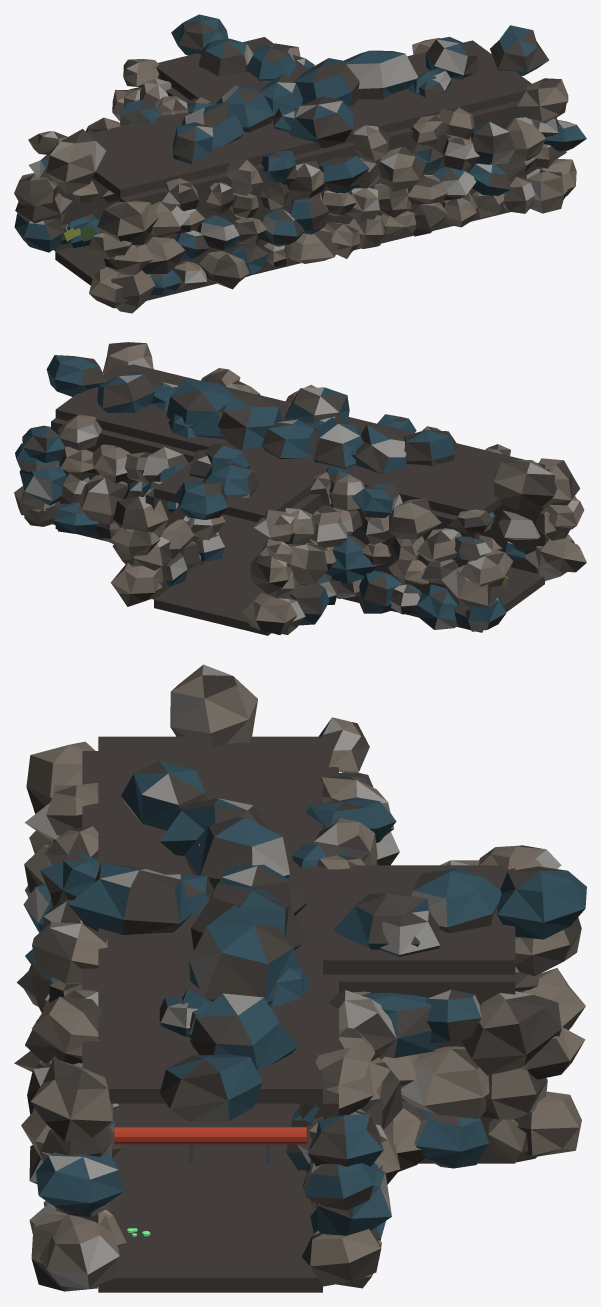
Rendered from Cave_Flooded_Junction.fbx.
The picture shows the model from 3 angles, top to bottom: view 1: azimuth 30°, elevation 25°; view 2: azimuth 150°, elevation 25°; view 3: azimuth 270°, elevation 25°; orthographic projection. The views are drawn at different scales.
Parts seen in each view (by area): view 1: Decor, Ceiling2, Wall3, Ceiling1, Floor2, Wall1; view 2: Decor, Ceiling2, Floor1, Ceiling1, Floor2, Wall2, Wall3, Wall1, Wall4, Wall5; view 3: Decor, Ceiling2, Floor2, Ceiling1, Wall4, Wall3, Wall2.
Part boxes in pixels (<box>): Decor: <box>14,14,586,313</box>; Ceiling2: <box>56,40,531,197</box>; Wall3: <box>120,100,540,296</box>; Ceiling1: <box>156,37,308,103</box>; Floor2: <box>55,209,509,300</box>; Wall1: <box>53,178,120,251</box>; Decor: <box>14,342,586,634</box>; Ceiling2: <box>55,363,544,516</box>; Floor1: <box>154,559,271,635</box>; Ceiling1: <box>154,448,319,522</box>; Floor2: <box>55,514,544,629</box>; Wall2: <box>51,418,195,535</box>; Wall3: <box>479,468,549,573</box>; Wall1: <box>329,503,479,613</box>; Wall4: <box>145,489,204,599</box>; Wall5: <box>268,494,323,546</box>; Decor: <box>14,664,586,1291</box>; Ceiling2: <box>98,736,322,1103</box>; Floor2: <box>98,1103,322,1292</box>; Ceiling1: <box>323,865,515,974</box>; Wall4: <box>323,974,515,1155</box>; Wall3: <box>82,751,98,1223</box>; Wall2: <box>323,974,338,1119</box>.
Size of the model in its own units: 61.67 by 18.16 by 35.73.
